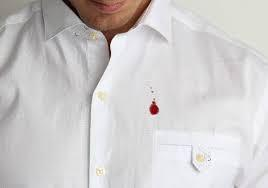blood: (148, 104, 159, 115)
